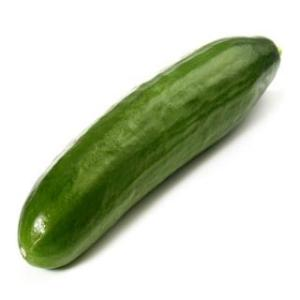cucumber: (15, 34, 282, 270)
